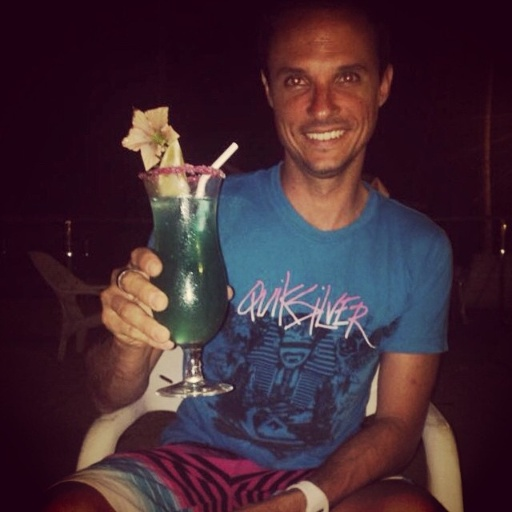hand: (86, 221, 168, 375)
